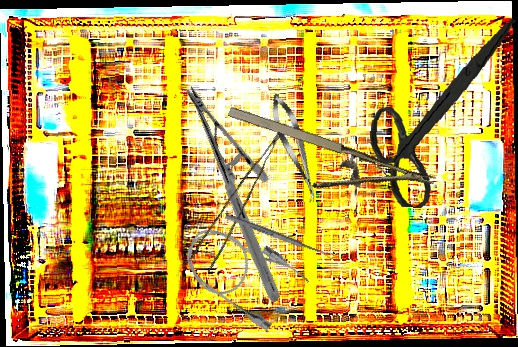Cannula: (173, 210, 313, 336)
Iris Scissors: (364, 7, 516, 216)
Micro Scissor: (265, 90, 325, 206)
Needle Holder: (117, 84, 349, 304), (214, 99, 437, 228)
Surgical Spoon: (224, 212, 335, 261)
Tissue Forceps: (182, 123, 310, 273)
